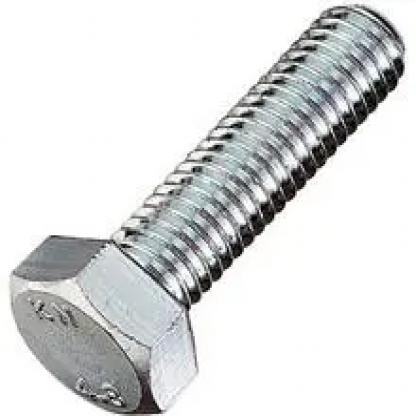FOD: (6, 2, 408, 408)
